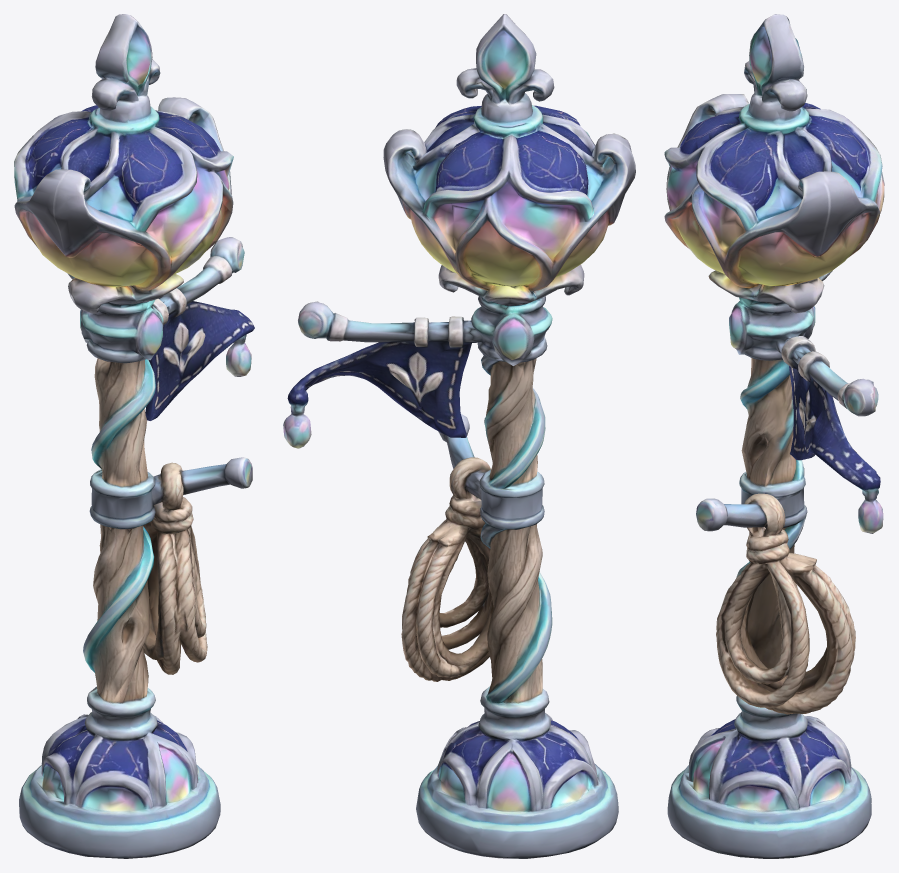
Rendered from raft-mast.medium.glb.
3 renders of one model, left to right at view 1: azimuth 30°, elevation 25°; view 2: azimuth 150°, elevation 25°; view 3: azimuth 270°, elevation 25°, orthographic.
Parts seen in each view (by area): view 1: tripo_node_2ffe303d-7577-4e65-a291-9c60f2755456; view 2: tripo_node_2ffe303d-7577-4e65-a291-9c60f2755456; view 3: tripo_node_2ffe303d-7577-4e65-a291-9c60f2755456.
Part boxes in pixels (left/top/right/bottom): tripo_node_2ffe303d-7577-4e65-a291-9c60f2755456: left=14, top=14, right=254, bottom=858; tripo_node_2ffe303d-7577-4e65-a291-9c60f2755456: left=283, top=14, right=635, bottom=858; tripo_node_2ffe303d-7577-4e65-a291-9c60f2755456: left=664, top=14, right=884, bottom=858.
Size of the model in its own units: 0.9493 by 2.6 by 0.6408.
1 material, 1 textured.
